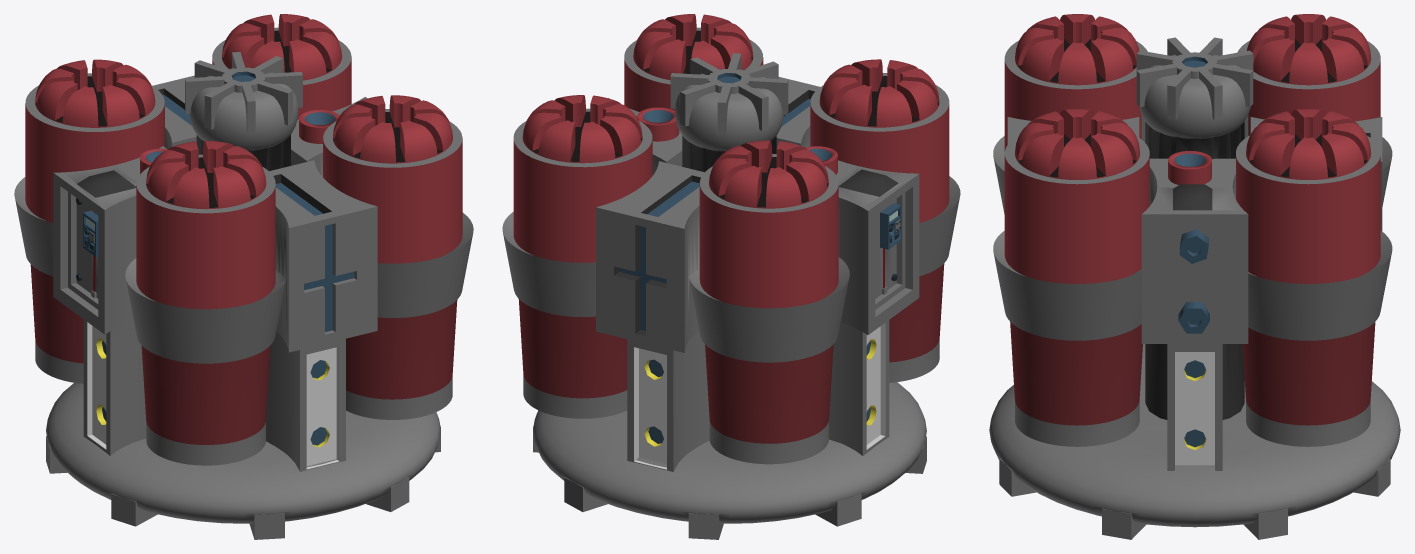
File: Turbine_03.fbx
The picture shows the model from 3 angles, left to right: view 1: azimuth 30°, elevation 25°; view 2: azimuth 150°, elevation 25°; view 3: azimuth 270°, elevation 25°; orthographic projection. The views are drawn at different scales.
Parts seen in each view (by area): view 1: Model; view 2: Model; view 3: Model.
Boxes of the visible parts, x1,y1,x2,y2 form: Model: (14, 14, 473, 539); Model: (502, 14, 960, 539); Model: (989, 14, 1400, 539).
Bounding box in the file's own units: 171 × 181 × 171.
